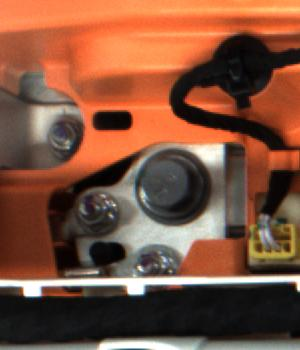nut_b: (131, 138, 212, 229)
screw_s: (74, 190, 115, 235), (132, 242, 181, 277), (44, 115, 79, 159)
